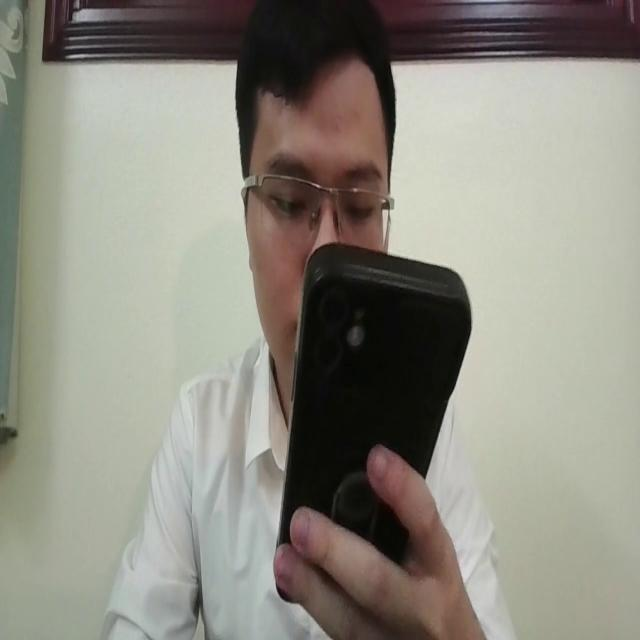phone: (274, 236, 473, 605)
student: (108, 0, 518, 640)
